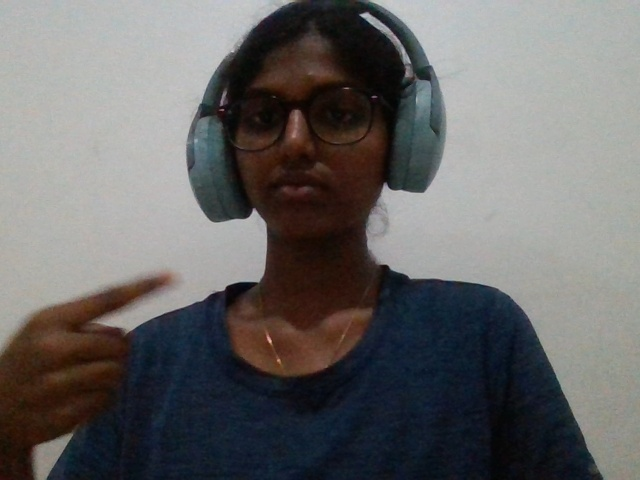Me: (3, 251, 207, 480)
